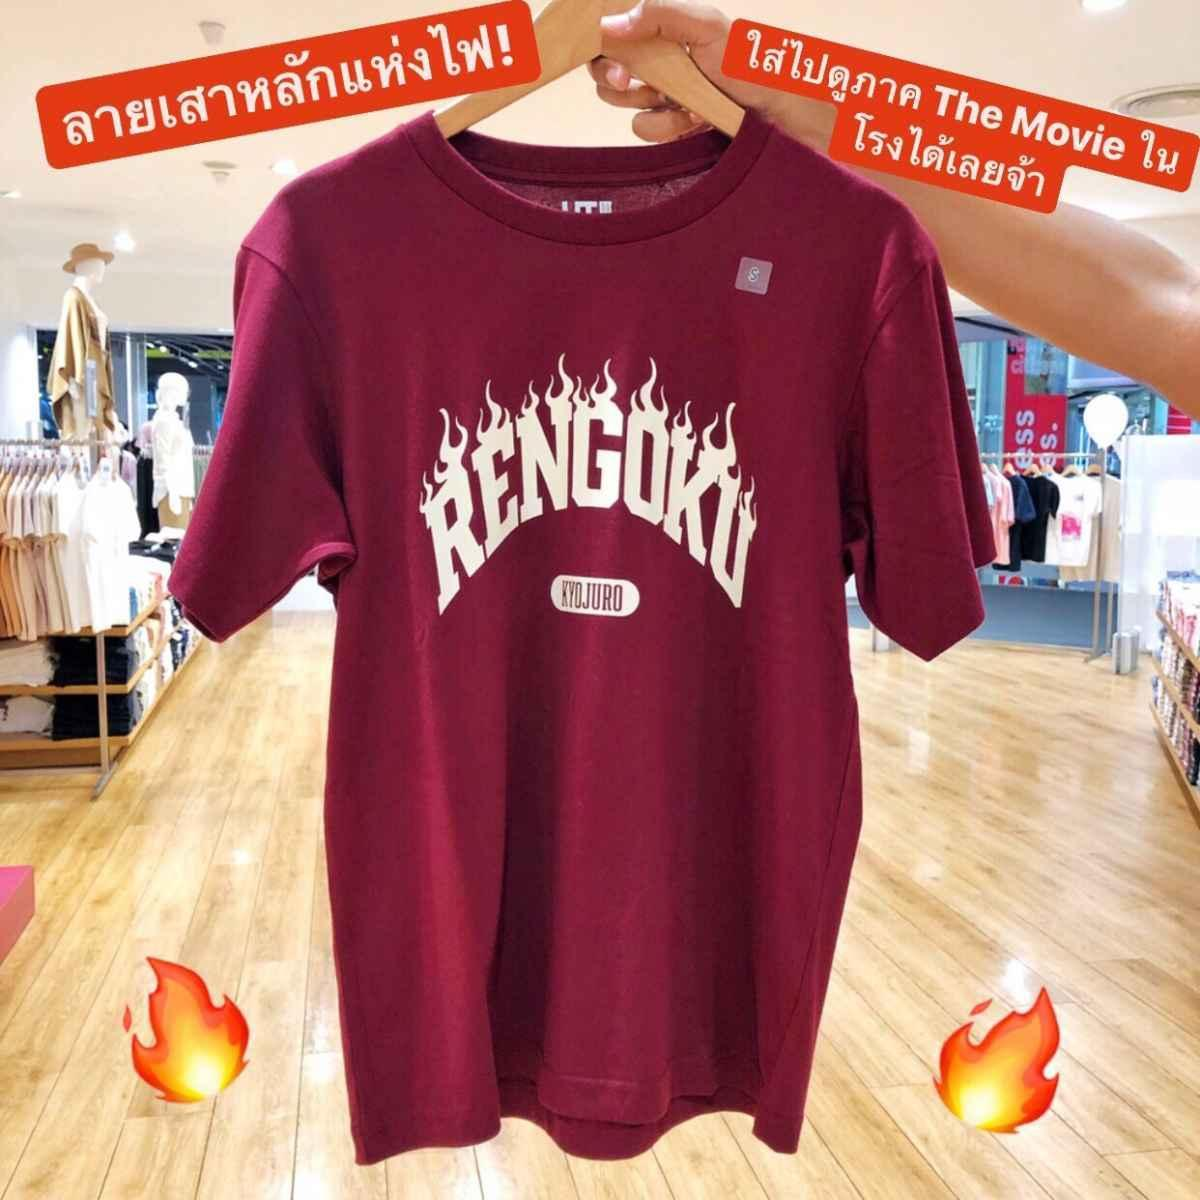Tshirt: (156, 95, 992, 1153)
